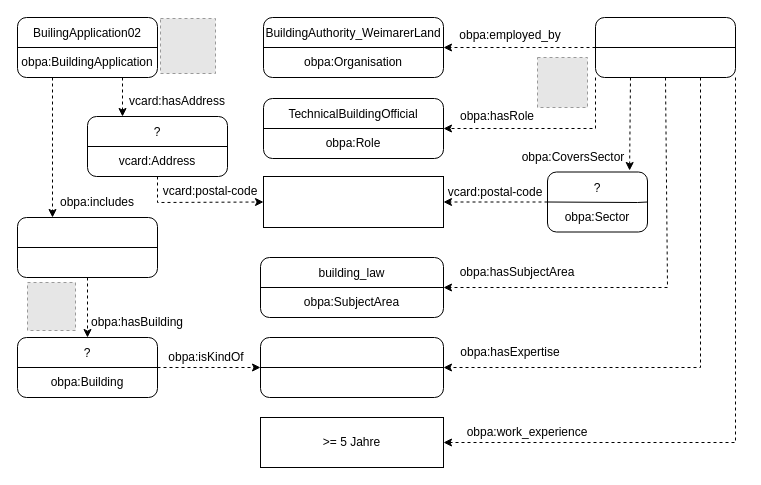
The diagram is 761 pixels wide and 485 high, and some of its shapes have lost their labels. Grey dashed boxes stand in for pictures. Each missing label, with the centre of its shape:
? (BO5) obpa:Person: point (665, 47)
? (residentalConstruction) obpa:Expertise: point (352, 367)
? obpa:ConstructionProject: point (87, 247)
postal-code: point (353, 202)
